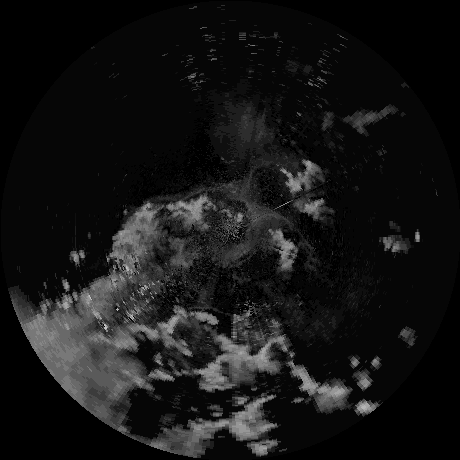frontgust: (154, 181, 237, 203), (282, 216, 315, 269)
